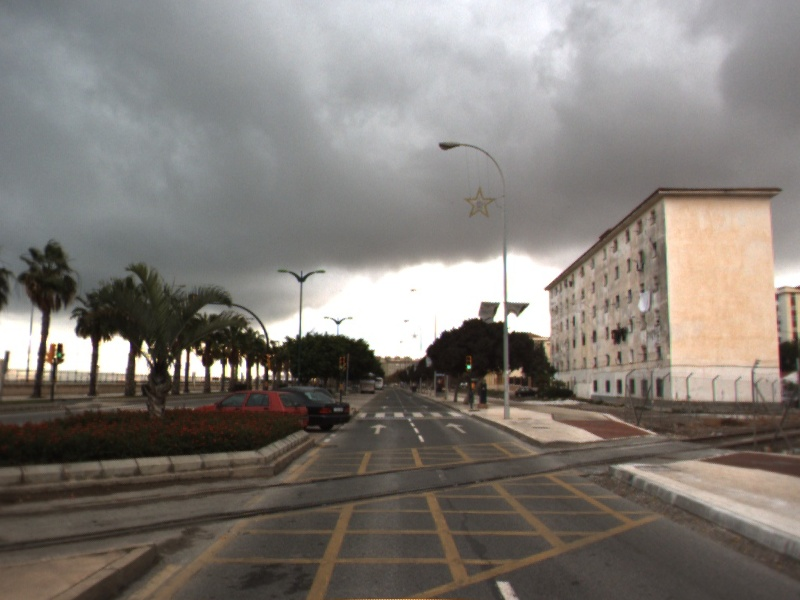STRAIGHT: (443, 421, 468, 435), (368, 422, 389, 436)
